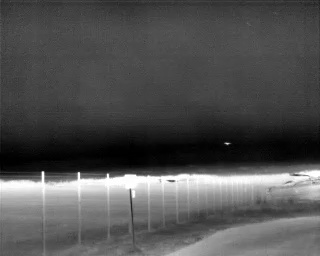AIRPLANE: (223, 139, 232, 147)
